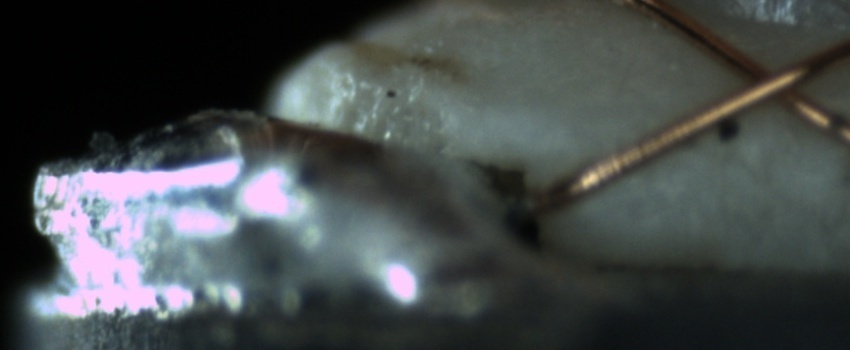CL: (720, 41, 825, 116)
